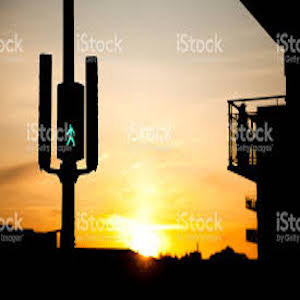green: (59, 123, 79, 150)
